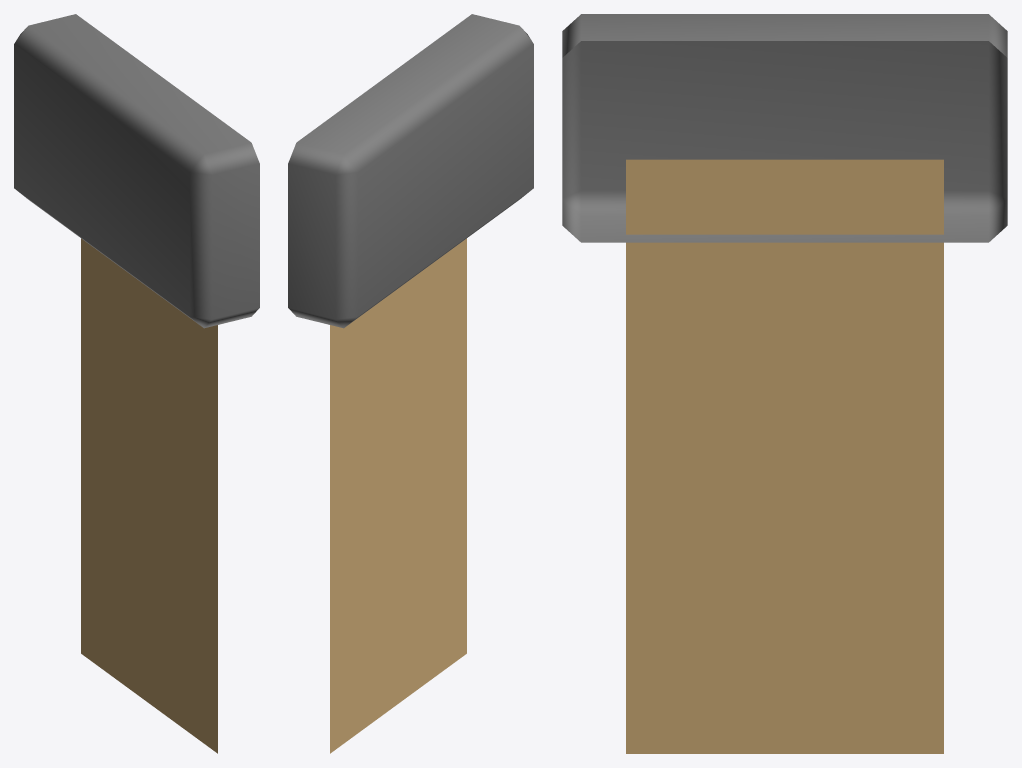
Rendered from SM_WallEndA_2_LOD0.fbx.
3 views of the same model, side by side, from view 1: azimuth 30°, elevation 25°; view 2: azimuth 150°, elevation 25°; view 3: azimuth 270°, elevation 25° (orthographic). The views are drawn at different scales.
Parts seen in each view (by area): view 1: SM_WallEndA_2_LOD0; view 2: SM_WallEndA_2_LOD0; view 3: SM_WallEndA_2_LOD0.
Part boxes in pixels (x1=…): SM_WallEndA_2_LOD0: x1=14, y1=14, x2=259, y2=753; SM_WallEndA_2_LOD0: x1=288, y1=14, x2=533, y2=753; SM_WallEndA_2_LOD0: x1=562, y1=14, x2=1007, y2=753.
Size of the model in its own units: 0.26 by 2.5 by 1.4.
